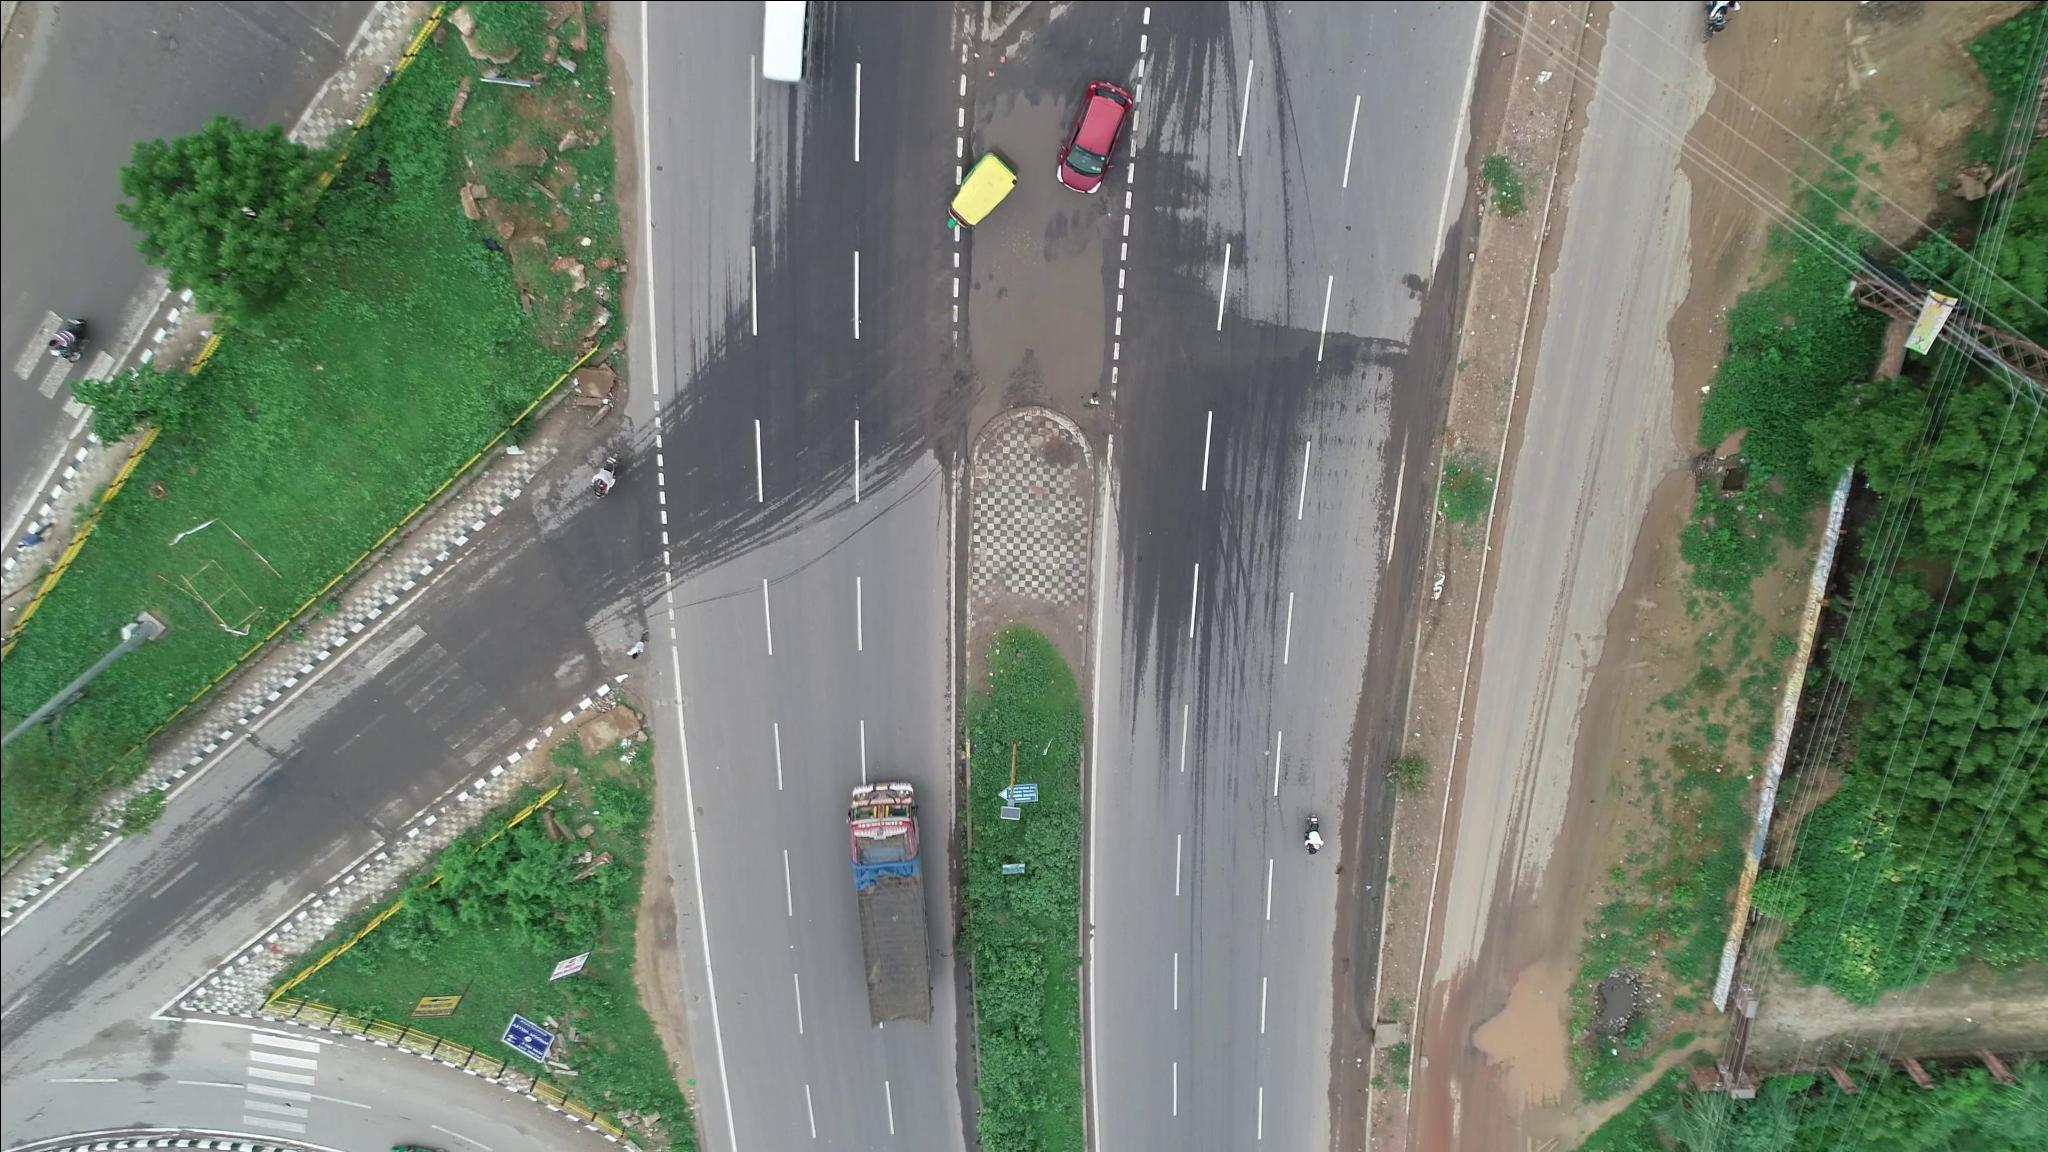Waterlogging: (921, 215, 1125, 409)
